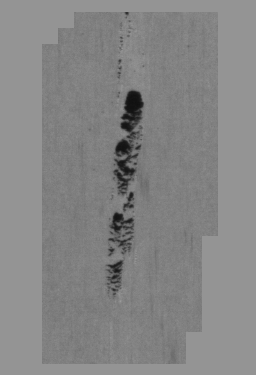oxl: (35, 10, 221, 365)
